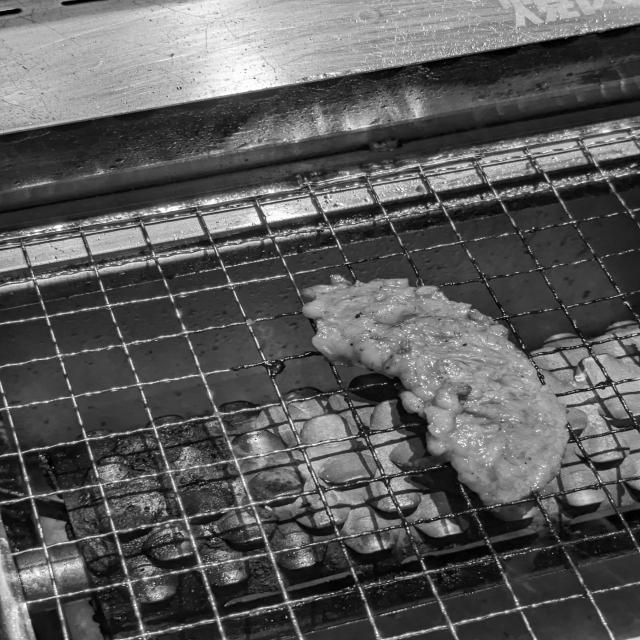OK undercooked beef,: (296, 264, 590, 519)
